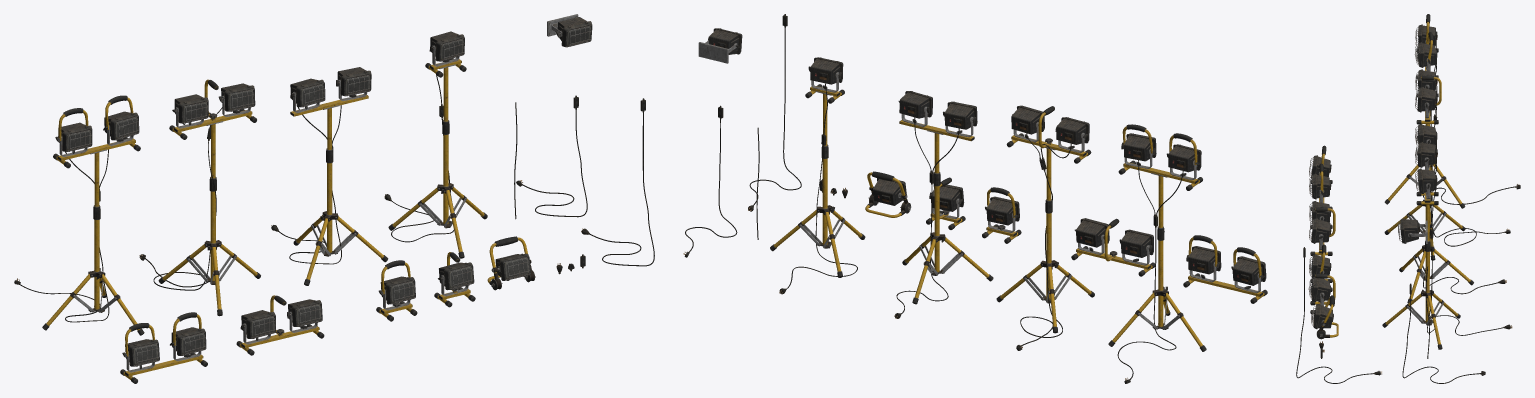
The model's file is flood_lights.gltf.
The picture shows the model from 3 angles, left to right: view 1: azimuth 30°, elevation 25°; view 2: azimuth 150°, elevation 25°; view 3: azimuth 270°, elevation 25°; orthographic projection. The views are drawn at different scales.
Visible parts, largest first — view 1: flood_lights_standing_double_c_stand, flood_lights_standing_single_stand, flood_lights_standing_double_b_stand, flood_lights_standing_double_a_stand, flood_lights_wall_light, flood_lights_standing_double_c_light_02, flood_lights_standing_double_b_light_01, flood_lights_standing_double_a_bar, flood_lights_standing_single_light, flood_lights_standing_double_b_light_02, flood_lights_standing_double_c_light_01, flood_lights_floor_double_b_light_01 (+14 smaller); view 2: flood_lights_standing_double_c_stand, flood_lights_standing_single_stand, flood_lights_standing_double_b_stand, flood_lights_standing_double_a_stand, flood_lights_standing_double_a_bar, flood_lights_standing_double_c_light_01, flood_lights_floor_double_b_light_01, flood_lights_standing_double_b_light_01, flood_lights_standing_single_light, flood_lights_floor_double_a_light_01, flood_lights_standing_double_c_light_02, flood_lights_floor_double_b_light_02 (+17 smaller); view 3: flood_lights_standing_single_stand, flood_lights_standing_double_c_stand, flood_lights_standing_double_b_stand, flood_lights_standing_double_a_stand, flood_lights_standing_double_b_light_02, flood_lights_standing_double_c_light_02, flood_lights_floor_single_b_light, flood_lights_standing_single_light, flood_lights_floor_double_b_light_02, flood_lights_wall_light, flood_lights_standing_double_a_light_02, flood_lights_floor_single_light_c (+15 smaller).
Boxes of the visible parts, x1=… form: flood_lights_standing_double_c_stand: x1=293, y1=148, x2=388, y2=285; flood_lights_standing_single_stand: x1=388, y1=120, x2=487, y2=258; flood_lights_standing_double_b_stand: x1=158, y1=177, x2=260, y2=316; flood_lights_standing_double_a_stand: x1=42, y1=205, x2=144, y2=335; flood_lights_wall_light: x1=556, y1=17, x2=592, y2=47; flood_lights_standing_double_c_light_02: x1=336, y1=67, x2=371, y2=96; flood_lights_standing_double_b_light_01: x1=172, y1=94, x2=208, y2=123; flood_lights_standing_double_a_bar: x1=53, y1=137, x2=140, y2=206; flood_lights_standing_single_light: x1=429, y1=31, x2=464, y2=61; flood_lights_standing_double_b_light_02: x1=218, y1=83, x2=255, y2=111; flood_lights_standing_double_c_light_01: x1=290, y1=78, x2=325, y2=107; flood_lights_floor_double_b_light_01: x1=240, y1=310, x2=275, y2=338; flood_lights_standing_double_c_stand: x1=902, y1=172, x2=993, y2=304; flood_lights_standing_single_stand: x1=770, y1=144, x2=865, y2=277; flood_lights_standing_double_b_stand: x1=996, y1=199, x2=1094, y2=333; flood_lights_standing_double_a_stand: x1=1108, y1=226, x2=1206, y2=351; flood_lights_standing_double_a_bar: x1=1118, y1=160, x2=1202, y2=227; flood_lights_standing_double_c_light_01: x1=943, y1=101, x2=977, y2=129; flood_lights_floor_double_b_light_01: x1=1119, y1=229, x2=1153, y2=257; flood_lights_standing_double_b_light_01: x1=1055, y1=117, x2=1089, y2=144; flood_lights_standing_single_light: x1=808, y1=57, x2=843, y2=84; flood_lights_floor_double_a_light_01: x1=1232, y1=256, x2=1266, y2=285; flood_lights_standing_double_c_light_02: x1=898, y1=91, x2=932, y2=118; flood_lights_floor_double_b_light_02: x1=1074, y1=218, x2=1109, y2=247; flood_lights_standing_single_stand: x1=1382, y1=240, x2=1460, y2=349; flood_lights_standing_double_c_stand: x1=1399, y1=204, x2=1473, y2=303; flood_lights_standing_double_b_stand: x1=1384, y1=199, x2=1465, y2=260; flood_lights_standing_double_a_stand: x1=1384, y1=111, x2=1465, y2=208; flood_lights_standing_double_b_light_02: x1=1415, y1=87, x2=1437, y2=112; flood_lights_standing_double_c_light_02: x1=1415, y1=142, x2=1437, y2=167; flood_lights_floor_single_b_light: x1=1308, y1=277, x2=1331, y2=302; flood_lights_standing_single_light: x1=1415, y1=168, x2=1437, y2=193; flood_lights_floor_double_b_light_02: x1=1309, y1=218, x2=1331, y2=243; flood_lights_wall_light: x1=1398, y1=218, x2=1420, y2=243; flood_lights_standing_double_a_light_02: x1=1414, y1=42, x2=1437, y2=67; flood_lights_floor_single_light_c: x1=1311, y1=304, x2=1333, y2=329.
Bounding box in the file's own units: 4.6 × 1.81 × 2.11.
2 materials, 2 textured.
